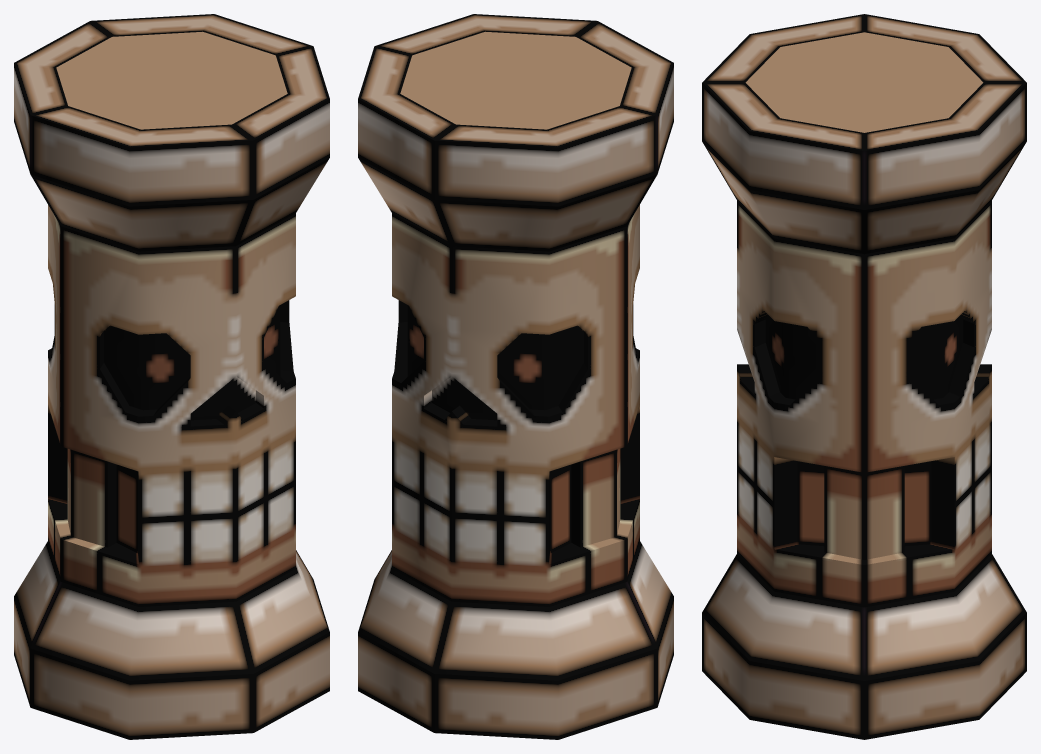
Rendered from deco_pillarSkull.FBX.
The picture shows the model from 3 angles, left to right: view 1: azimuth 30°, elevation 25°; view 2: azimuth 150°, elevation 25°; view 3: azimuth 270°, elevation 25°; orthographic projection.
Parts seen in each view (by area): view 1: deco_pillarSkull; view 2: deco_pillarSkull; view 3: deco_pillarSkull.
Boxes of the visible parts, x1,y1,x2,y2 form: deco_pillarSkull: [14, 14, 329, 739]; deco_pillarSkull: [358, 14, 673, 739]; deco_pillarSkull: [702, 14, 1026, 739].
Size of the model in its own units: 2 by 4 by 2.
Materials: 1 (1 with a texture image).
